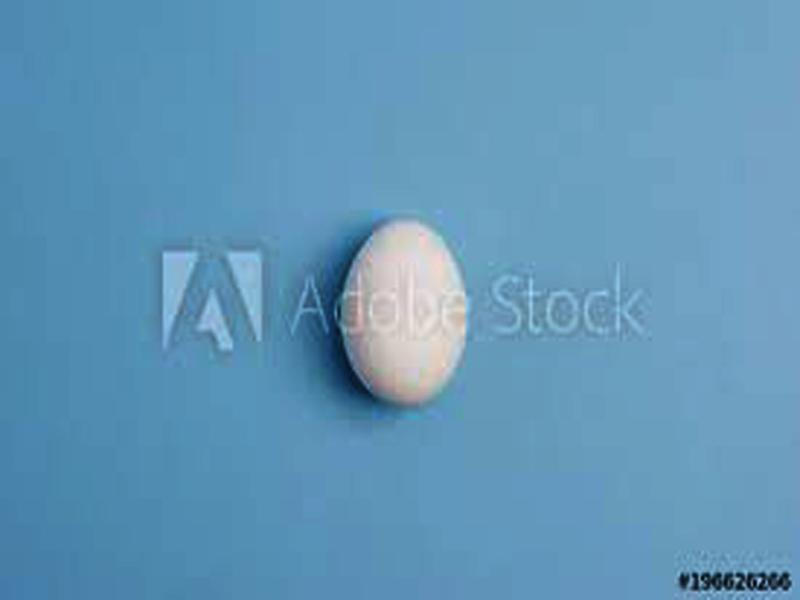Eggs: (340, 223, 465, 403)
